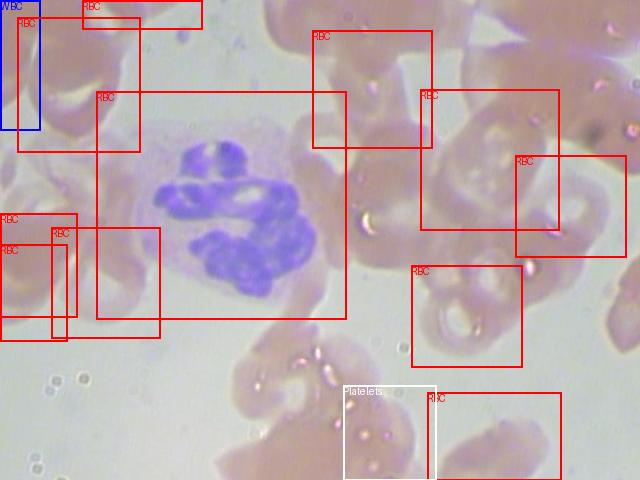Platelets: (343, 385, 436, 480)
RBC: (96, 91, 346, 319), (420, 89, 559, 230), (17, 17, 140, 152), (312, 30, 432, 148), (51, 227, 160, 338), (427, 392, 561, 480), (411, 265, 522, 367), (515, 155, 626, 257), (0, 213, 77, 317), (0, 244, 67, 341), (82, 0, 202, 29)
WBC: (0, 0, 40, 130)
